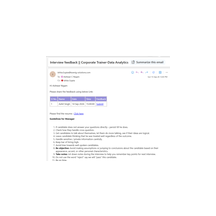

The page's visual inventory and layout, read from the dashboard file:
{"tool":"powerbi","page":{"name":"Page 1","canvas":[1280,720],"ordinal":0},"visuals":[{"type":"group","id":"g1","title":"Group 2","box":[321.7,0,943.3,249.2],"z":0},{"type":"cardVisual","fields":{"Data":["Course.Total Courses"]},"box":[321.9,0,237.7,124.9],"z":0,"group":"g1"},{"type":"slicer","fields":{"Values":["Trainer.TrainerName"]},"box":[34.3,174.2,279.7,150],"z":0,"group":"g2"},{"type":"cardVisual","fields":{"Data":["Course.Total Mocks"]},"box":[549.9,0,238.4,124.9],"z":1000,"group":"g1"},{"type":"textbox","box":[25.4,36.9,296.2,50.9],"z":1000},{"type":"slicer","fields":{"Values":["Course.CourseName"]},"box":[34.3,339.5,279.7,255.5],"z":1000,"group":"g2"},{"type":"cardVisual","fields":{"Data":["Course.Trainer-Course Validated"]},"box":[788.3,0,238.4,124.9],"z":2000,"group":"g1"},{"type":"group","id":"g2","title":"Group 1","box":[34.3,174.2,279.7,507.3],"z":2000},{"type":"slicer","fields":{"Values":["TrainerCourseMapping.MappingStatus"]},"box":[34.3,610.3,279.7,71.2],"z":2000,"group":"g2"},{"type":"cardVisual","fields":{"Data":["Course.Avg Mocks per Trainer-Course"]},"box":[1026.7,0,238.4,124.9],"z":3000,"group":"g1"},{"type":"pivotTable","fields":{"Rows":["Trainer.TrainerName","Course.CourseName"],"Values":["Course.Total Mocks","Course.Latest Activity Type","Course.Latest Mock Summary"]},"box":[338.2,249.2,942.1,443.7],"z":3000},{"type":"cardVisual","fields":{"Data":["Course.Latest Mock Rating"]},"box":[321.7,124.6,943.3,124.6],"z":4000,"group":"g1"}]}

Visuals, with their boxes on the page's 1280x720 design canvas (x1, y1, x2, y2). These are canvas units, not pixel positions in the 216x216 screenshot, which may show the page scaled, cropped or inside an application window:
"Group 2" group: x1=322 y1=0 x2=1265 y2=249
cardVisual - Course.Total Courses: x1=322 y1=0 x2=560 y2=125
slicer - Trainer.TrainerName: x1=34 y1=174 x2=314 y2=324
cardVisual - Course.Total Mocks: x1=550 y1=0 x2=788 y2=125
textbox: x1=25 y1=37 x2=322 y2=88
slicer - Course.CourseName: x1=34 y1=340 x2=314 y2=595
cardVisual - Course.Trainer-Course Validated: x1=788 y1=0 x2=1027 y2=125
"Group 1" group: x1=34 y1=174 x2=314 y2=682
slicer - TrainerCourseMapping.MappingStatus: x1=34 y1=610 x2=314 y2=682
cardVisual - Course.Avg Mocks per Trainer-Course: x1=1027 y1=0 x2=1265 y2=125
pivotTable - Trainer.TrainerName x Course.CourseName: x1=338 y1=249 x2=1280 y2=693
cardVisual - Course.Latest Mock Rating: x1=322 y1=125 x2=1265 y2=249
